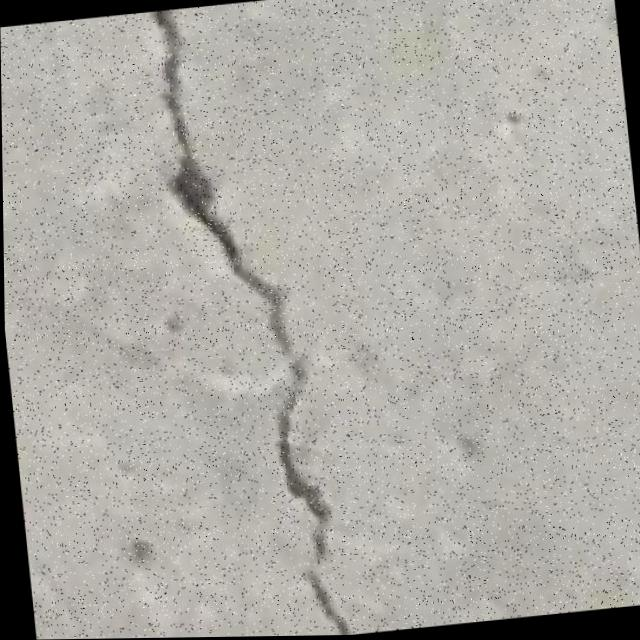Crack: (119, 0, 368, 639)
